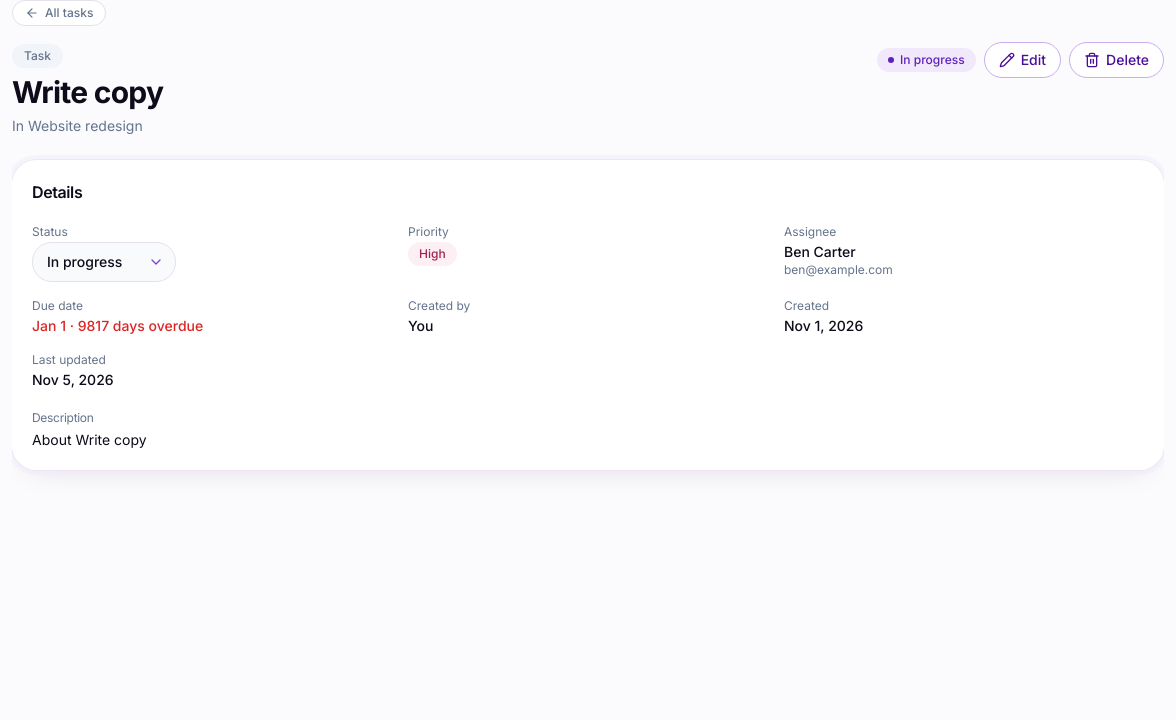
Test: changing things › shows a refused status change as an alert
Select "Completed" in the dropdown named "Status of Write copy" at (104, 262), box x1=32 y1=242 x2=176 y2=282
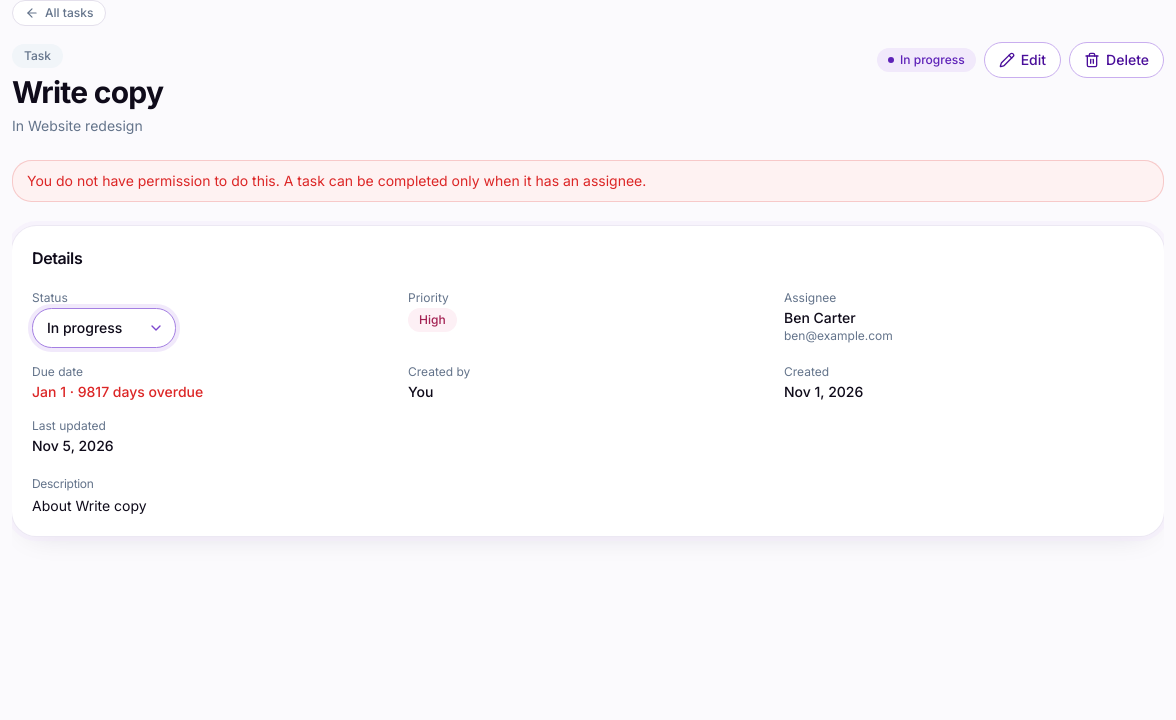
Now the message shows "You do not have permission to do this. A task can be completed only when it has an assignee.", box x1=27 y1=172 x2=646 y2=189
